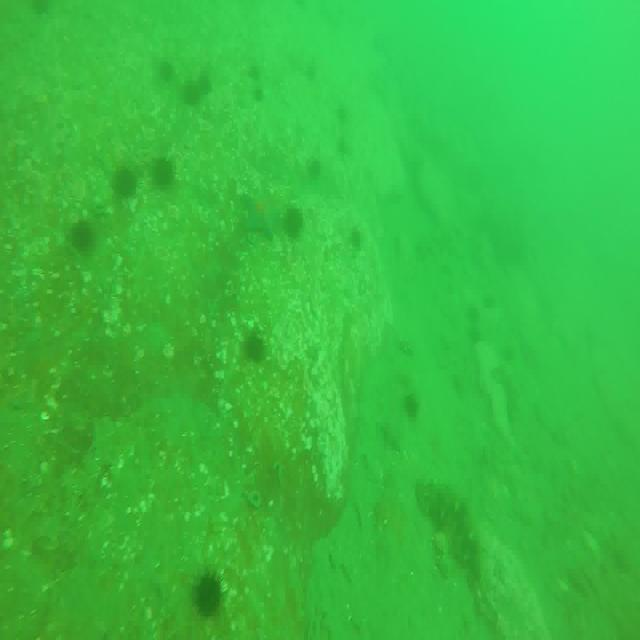echinus: (194, 572, 223, 620), (113, 164, 140, 202), (245, 327, 270, 365), (73, 217, 96, 251), (283, 203, 303, 241), (154, 157, 176, 191), (183, 71, 197, 109), (158, 58, 178, 82), (197, 73, 215, 99), (349, 226, 368, 250), (402, 392, 418, 418), (306, 154, 320, 183)
holothurian: (416, 479, 481, 575)
starfish: (244, 190, 281, 242)
